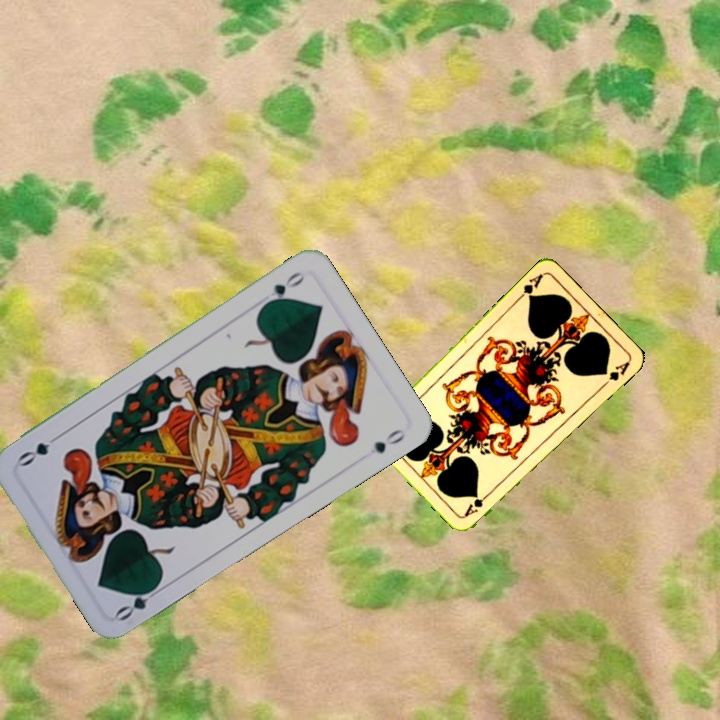GA: (513, 269, 546, 303), (460, 487, 494, 519)
GO: (112, 579, 166, 624), (258, 267, 307, 310)
